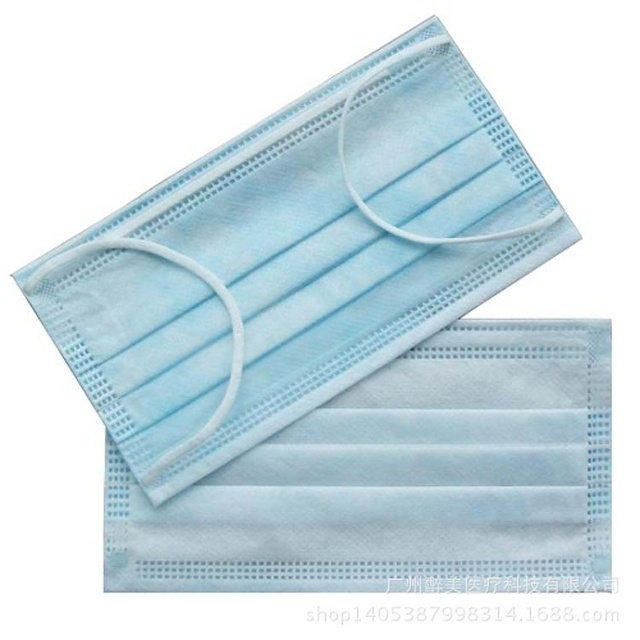mask: (8, 15, 591, 509), (100, 315, 615, 598)
